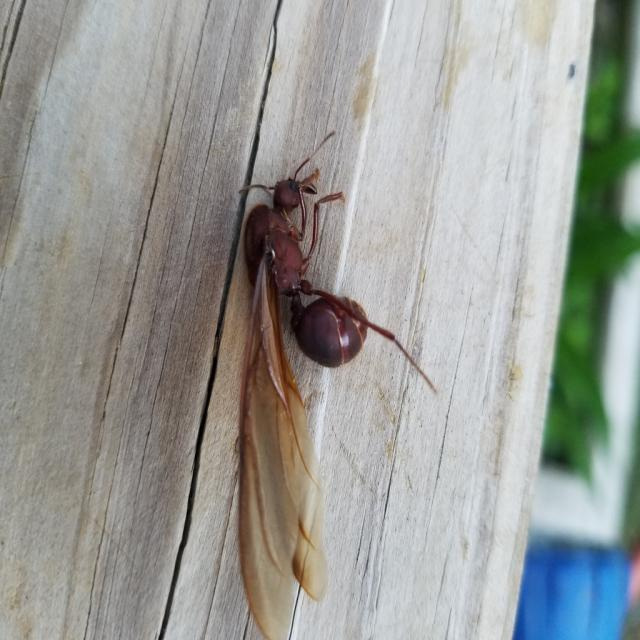Dead-Female-Alate: (238, 128, 438, 640)
